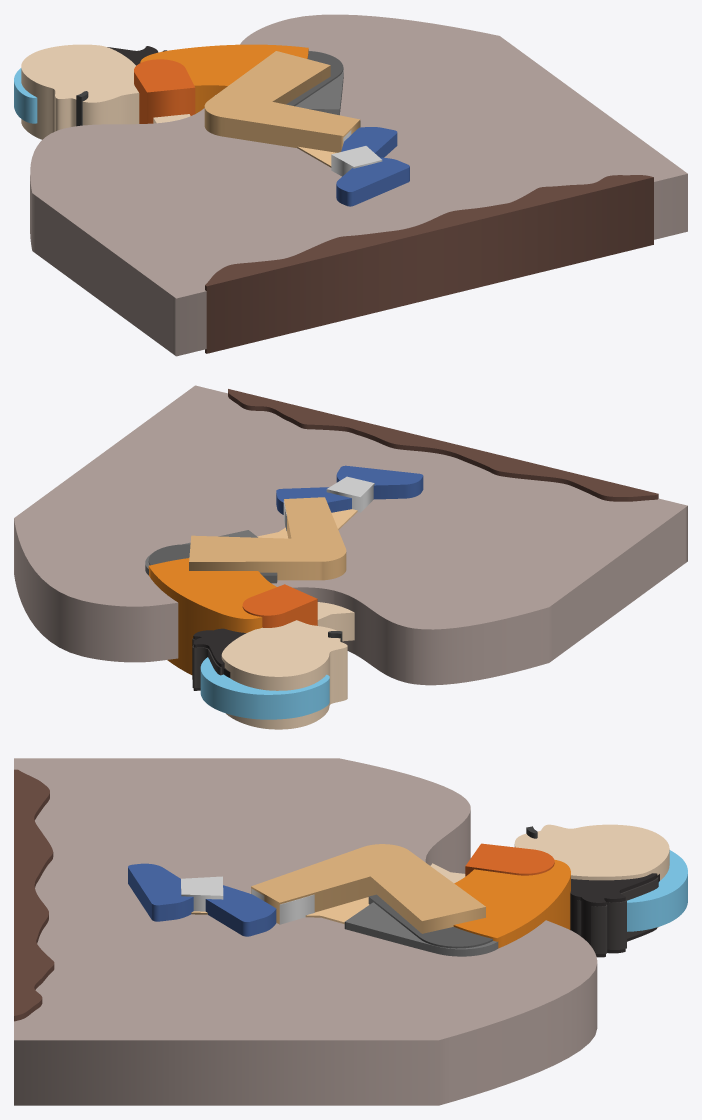
The model's file is emoji_u1f6b5_1f3fb.glb.
3 renders of one model, top to bottom at view 1: azimuth 30°, elevation 25°; view 2: azimuth 150°, elevation 25°; view 3: azimuth 270°, elevation 25°, orthographic. The views are drawn at different scales.
Visible parts, largest first — view 1: emoji_u1f6b5_1f3fb; view 2: emoji_u1f6b5_1f3fb; view 3: emoji_u1f6b5_1f3fb.
Part boxes in pixels (x1,y1,x2,y2): emoji_u1f6b5_1f3fb: (14, 14, 687, 356); emoji_u1f6b5_1f3fb: (14, 385, 687, 729); emoji_u1f6b5_1f3fb: (14, 758, 687, 1105).
Size of the model in its own units: 0.0333 by 0.006 by 0.0336.
